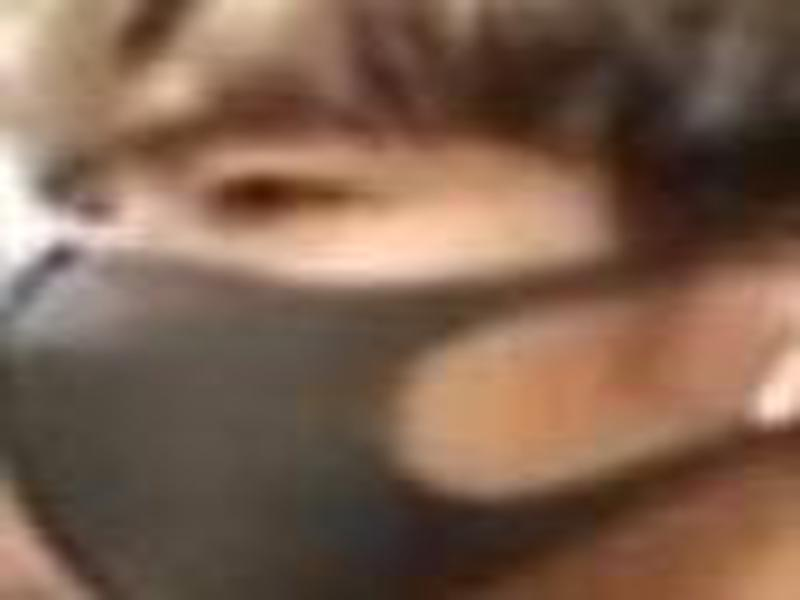with_mask: (1, 1, 796, 597)
